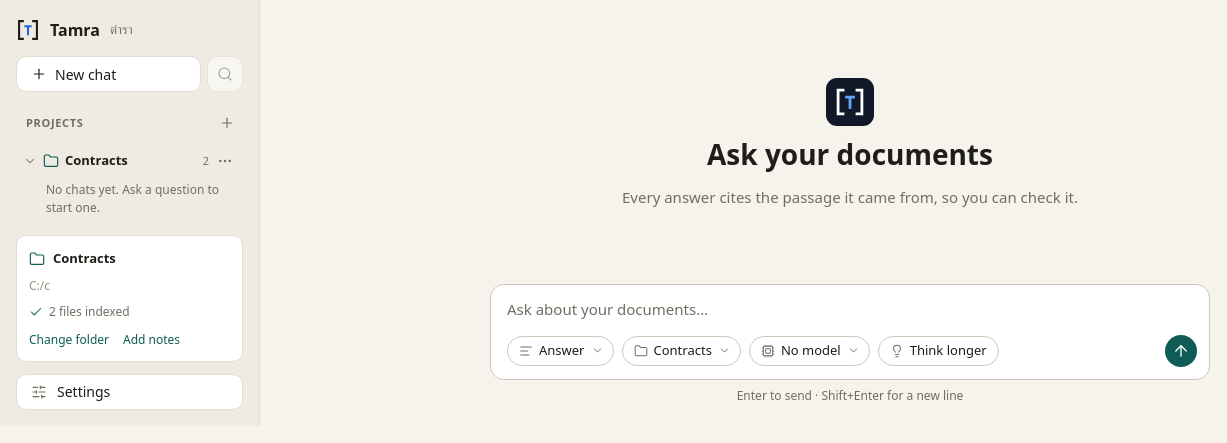
Test: The project menu › rebuilds the index
Click the button named "Options for project Contracts": (225, 161) [211, 147, 239, 175]
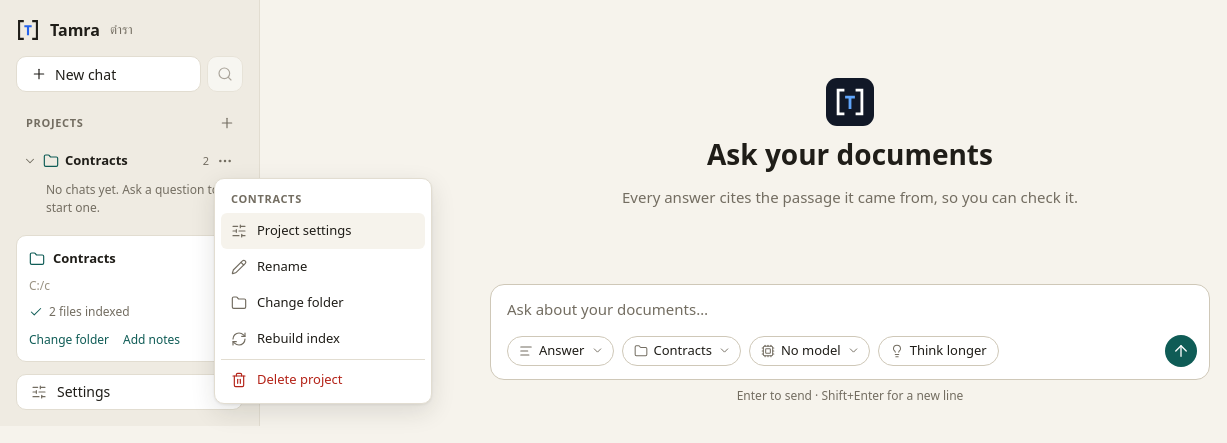
Click the menu item "Rebuild index": (323, 338) [221, 320, 425, 356]
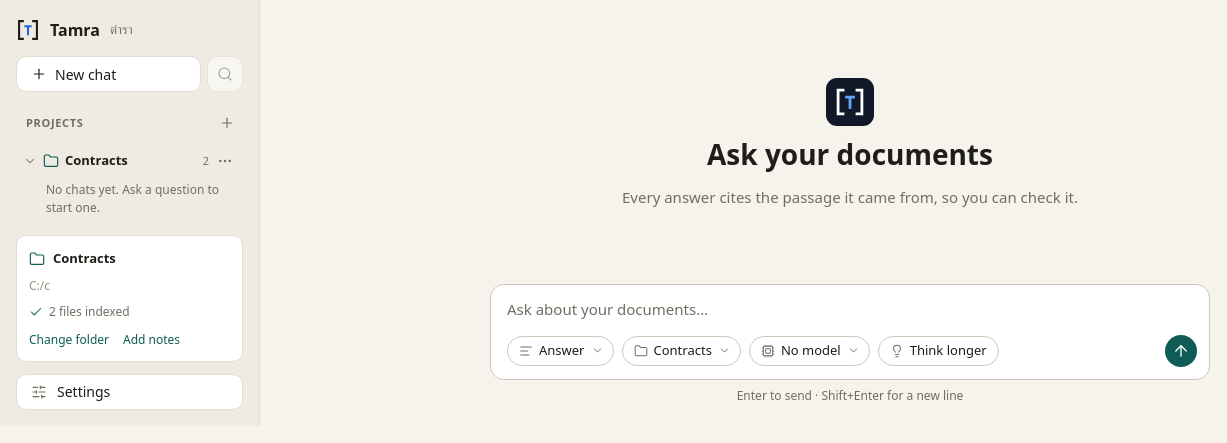
expect the menu is gone: met
